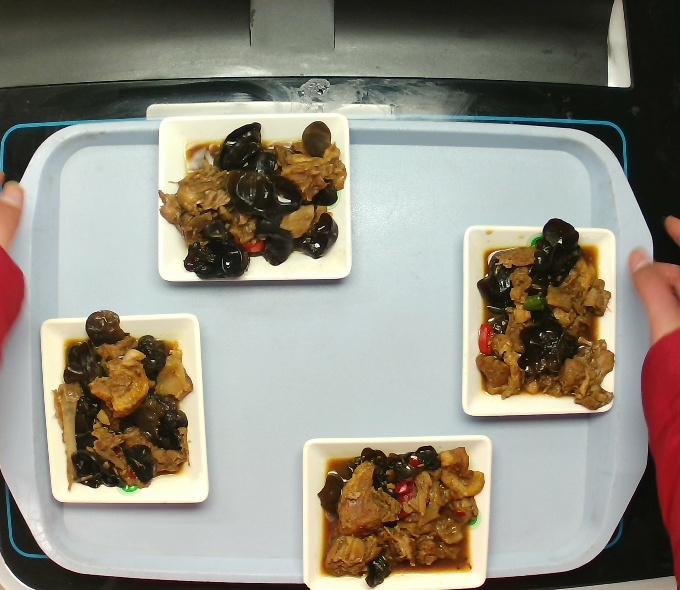wcq-MuErYaRou: (466, 219, 619, 409), (167, 127, 345, 274), (55, 319, 195, 488), (319, 439, 484, 581)
